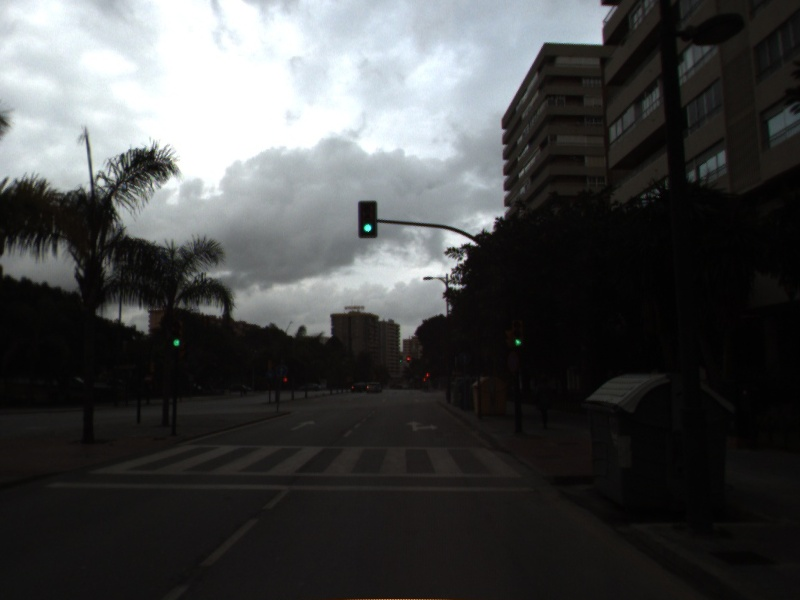STRAIGHT: (288, 418, 317, 433)
STRAIGHT_RIGHT: (403, 417, 441, 434)
